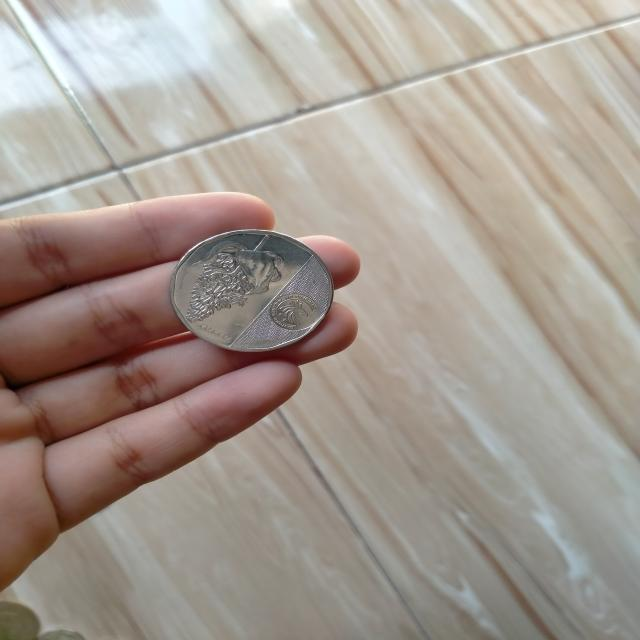10_New_Back: (182, 227, 290, 332)
